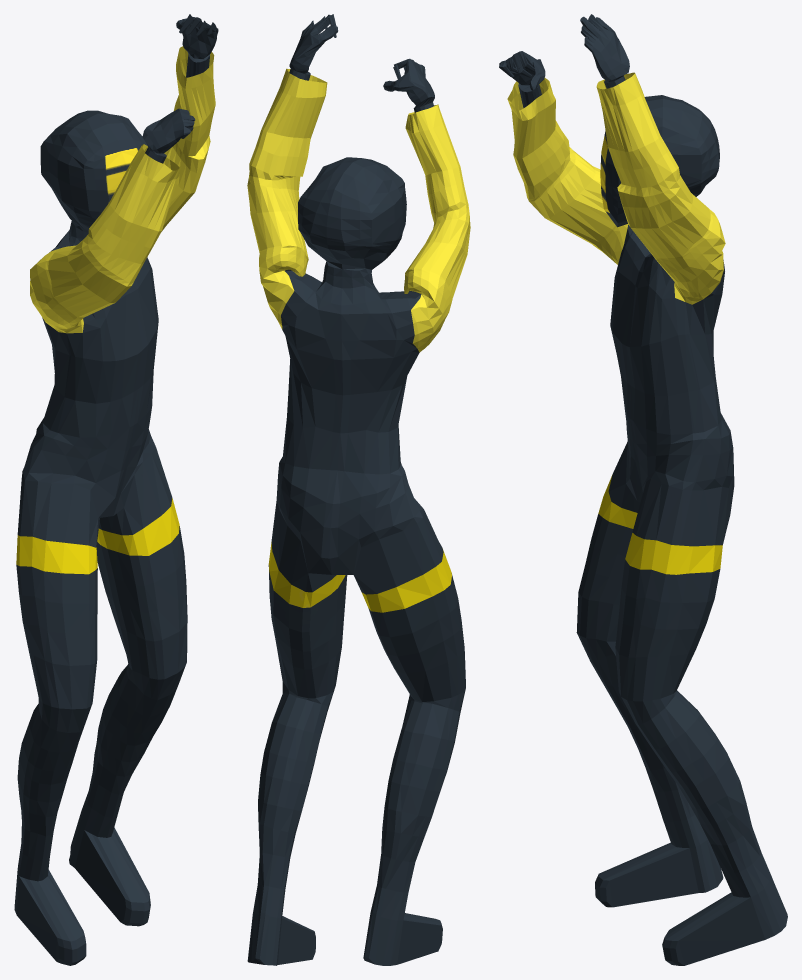
File: Sentry_Attack_000016.obj
3 views of the same model, side by side, from view 1: azimuth 30°, elevation 25°; view 2: azimuth 150°, elevation 25°; view 3: azimuth 270°, elevation 25° (orthographic). The views are drawn at different scales.
Visible parts, largest first — view 1: Cube; view 2: Cube; view 3: Cube.
Part boxes in pixels (box(x1,y1,x2,y2)): Cube: box(14, 14, 218, 965); Cube: box(247, 14, 470, 965); Cube: box(499, 14, 787, 965).
Bounding box in the file's own units: 0.9871 × 4.49 × 1.23.
